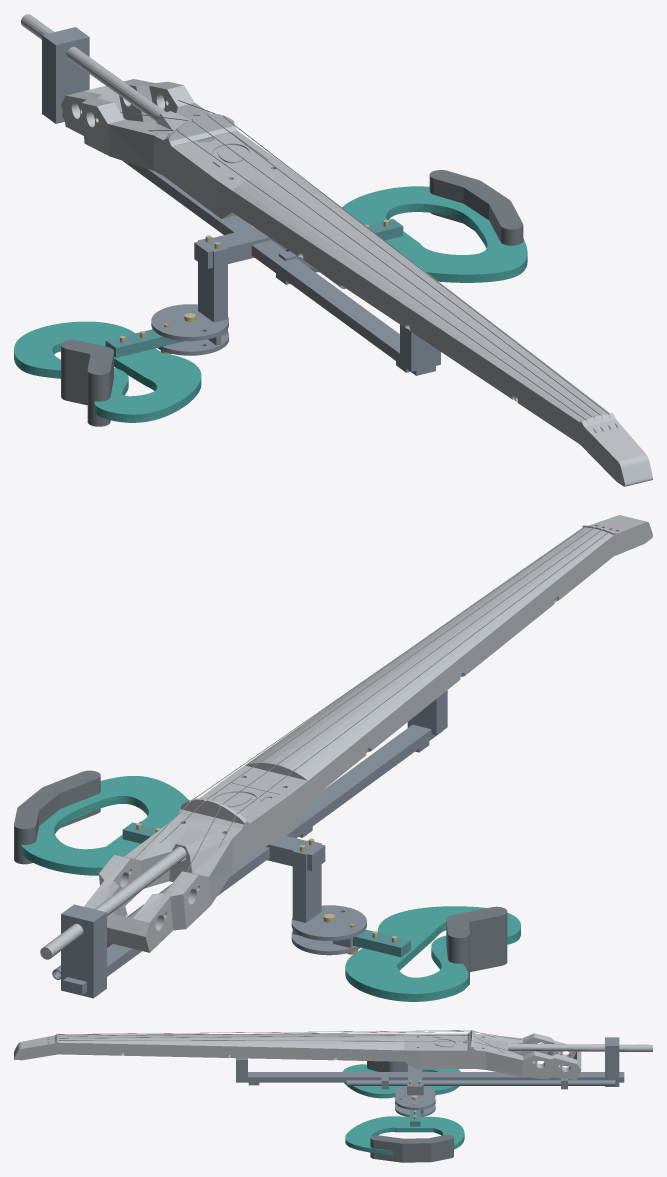
Rendered from cello.glb.
3 renders of one model, top to bottom at view 1: azimuth 30°, elevation 25°; view 2: azimuth 150°, elevation 25°; view 3: azimuth 270°, elevation 25°, orthographic. The views are drawn at different scales.
Parts seen in each view (by area): view 1: contoured_frame_-1, Part_3, contoured_frame_1, Part_6, Part_1, Part_2, Part_4, rear_metal_backbone, Part_5, padded_contact_-1, padded_contact_1, lower_metal_adapter_PROPOSED (+11 smaller); view 2: Part_6, contoured_frame_-1, Part_3, contoured_frame_1, Part_4, Part_2, rear_metal_backbone, Part_1, Part_5, padded_contact_-1, lower_metal_adapter_PROPOSED, padded_contact_1 (+11 smaller); view 3: Part_6, rear_metal_backbone, Part_3, Part_2, Part_4, Part_1, contoured_frame_1, padded_contact_1, Part_5, stowed_endpin_tube, Center_bar, contoured_frame_-1 (+10 smaller).
Boxes of the visible parts, left/top/right/bottom form: contoured_frame_-1: left=14, top=321, right=201, bottom=422; Part_3: left=297, top=217, right=452, bottom=326; contoured_frame_1: left=342, top=186, right=527, bottom=282; Part_6: left=61, top=79, right=210, bottom=175; Part_1: left=511, top=367, right=652, bottom=486; Part_2: left=404, top=292, right=549, bottom=403; Part_4: left=215, top=163, right=354, bottom=260; rear_metal_backbone: left=62, top=111, right=435, bottom=375; Part_5: left=154, top=125, right=281, bottom=218; padded_contact_-1: left=61, top=340, right=113, bottom=426; padded_contact_1: left=429, top=170, right=523, bottom=245; lower_metal_adapter_PROPOSED: left=42, top=27, right=89, bottom=123; Part_6: left=84, top=823, right=241, bottom=952; contoured_frame_-1: left=345, top=906, right=520, bottom=1001; Part_3: left=309, top=646, right=459, bottom=750; contoured_frame_1: left=21, top=776, right=188, bottom=875; Part_4: left=229, top=718, right=371, bottom=821; Part_2: left=414, top=574, right=559, bottom=680; rear_metal_backbone: left=63, top=724, right=442, bottom=994; Part_1: left=516, top=515, right=652, bottom=599; Part_5: left=169, top=776, right=299, bottom=863; padded_contact_-1: left=446, top=906, right=507, bottom=985; lower_metal_adapter_PROPOSED: left=61, top=904, right=106, bottom=998; padded_contact_1: left=14, top=770, right=100, bottom=864; Part_6: left=476, top=1033, right=581, bottom=1080; rear_metal_backbone: left=236, top=1072, right=624, bottom=1082; Part_3: left=226, top=1033, right=339, bottom=1060; Part_2: left=126, top=1034, right=233, bottom=1057; Part_4: left=339, top=1033, right=420, bottom=1068; Part_1: left=14, top=1033, right=126, bottom=1060; contoured_frame_1: left=345, top=1116, right=464, bottom=1155; padded_contact_1: left=370, top=1134, right=453, bottom=1162; Part_5: left=415, top=1032, right=485, bottom=1069; stowed_endpin_tube: left=346, top=1080, right=615, bottom=1085; Center_bar: left=427, top=1043, right=652, bottom=1051; contoured_frame_-1: left=342, top=1064, right=460, bottom=1098.
Bounding box in the file's own units: 467 × 181 × 1070.
